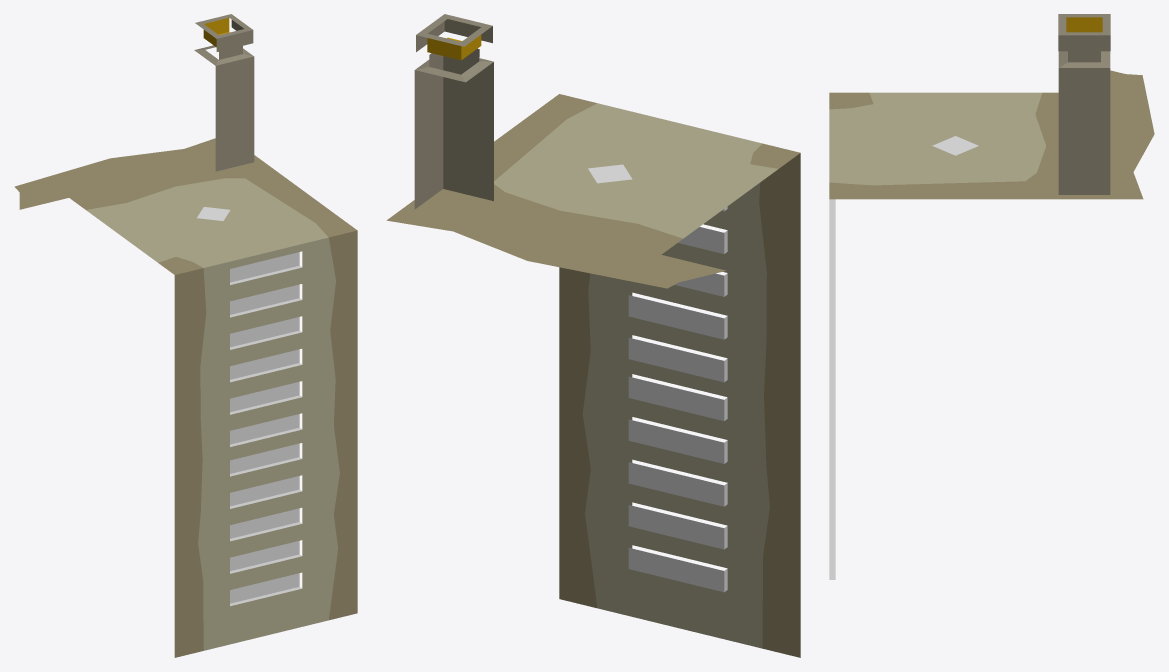
Rendered from 90L Right to Left.fbx.
3 renders of one model, left to right at view 1: azimuth 30°, elevation 25°; view 2: azimuth 150°, elevation 25°; view 3: azimuth 270°, elevation 25°, orthographic. The views are drawn at different scales.
Visible parts, largest first — view 1: polySurface7486; view 2: polySurface7486; view 3: polySurface7486.
Boxes of the visible parts, x1,y1,x2,y2 form: polySurface7486: [14, 14, 357, 657]; polySurface7486: [386, 14, 800, 657]; polySurface7486: [829, 14, 1154, 579].
Bounding box in the file's own units: 127 × 269 × 129.
